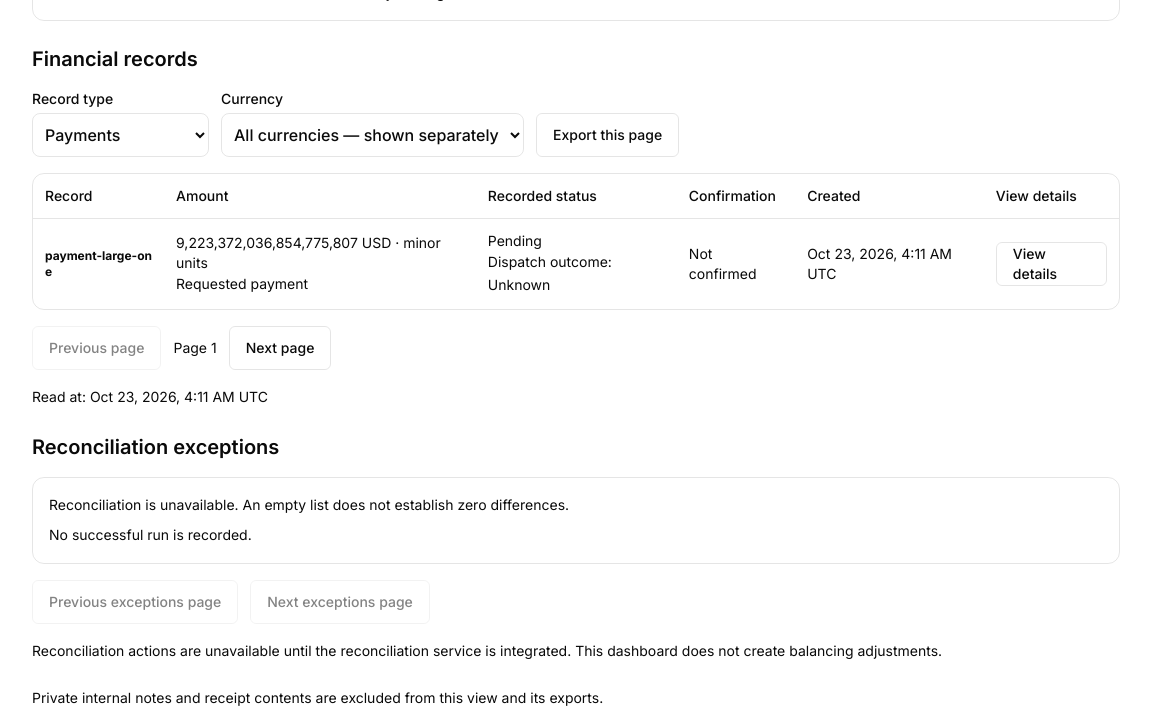
financial operations states and interactions › requests stable pages and resets the cursor when a currency filter changes
(page scrolled)
Expected: the element with test id "financial-records-table" is shown, [32,173,1120,310]
Click the button "Next page": (280, 348) [229,326,331,370]
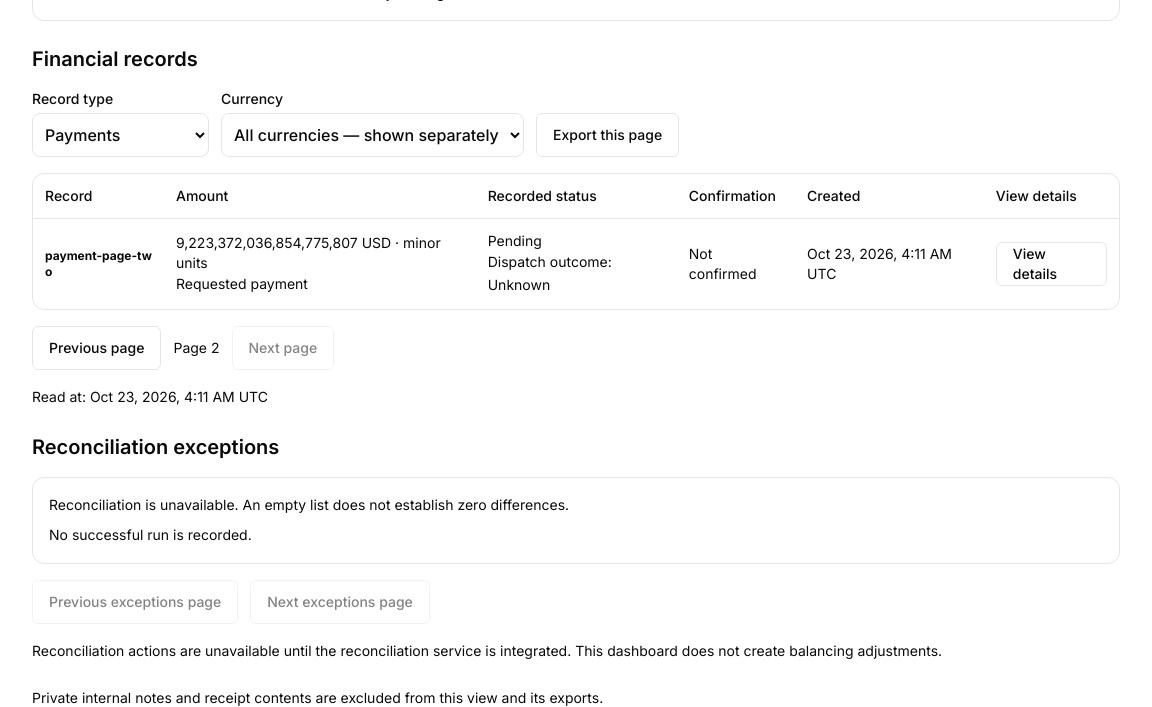
Now the element with test id "financial-records-table" shows "payment-page-two", box [45,248,152,279]
Select "EUR" in the dropdown labelled "Currency": (372, 135) [221,113,524,157]
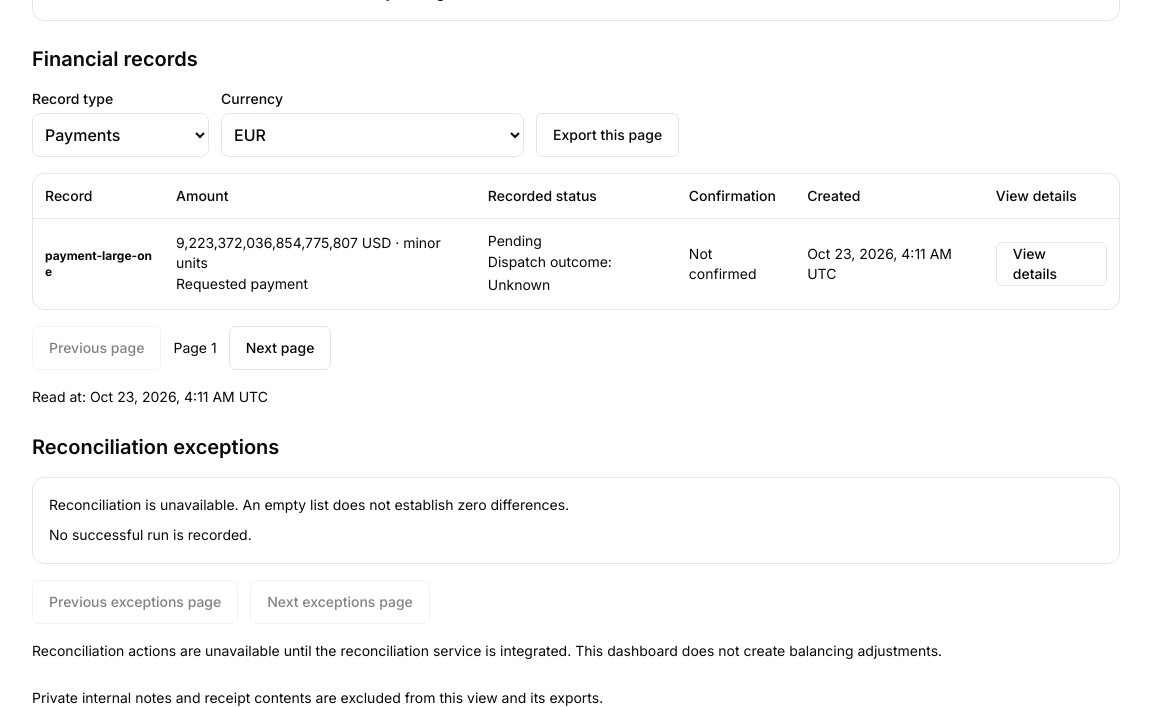
Now the button "Previous page" is disabled, box [32,326,162,370]
